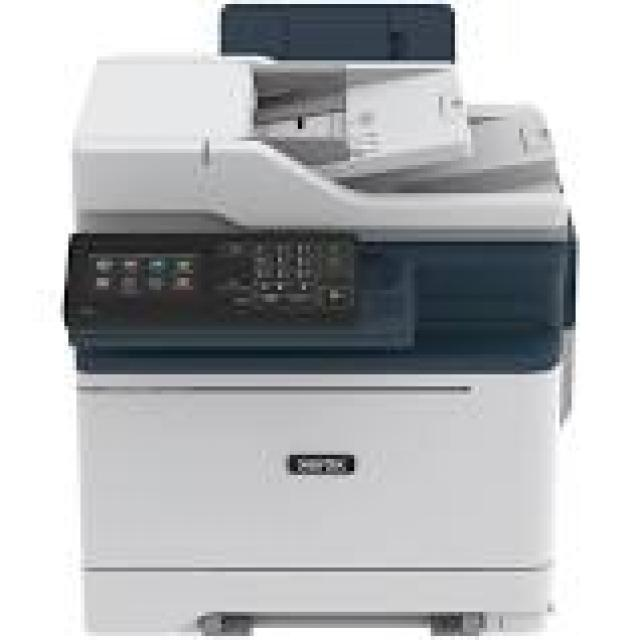printer: (44, 0, 602, 640)
